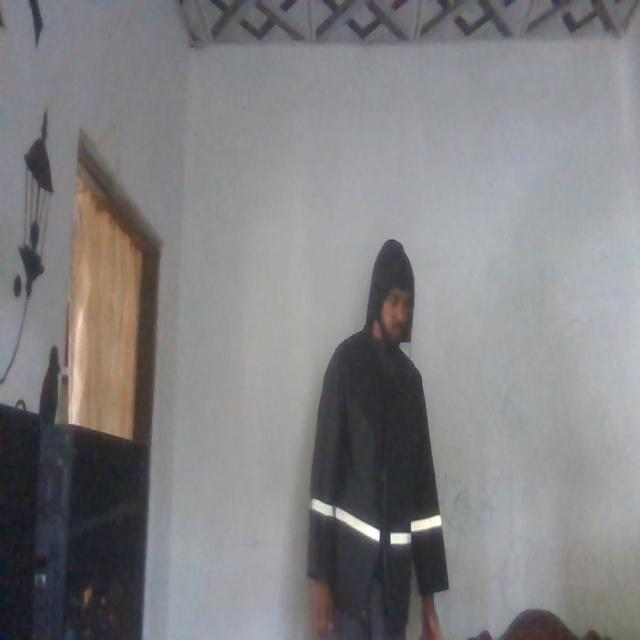Jacket_Wearer: (308, 329, 452, 630)
Person: (312, 242, 440, 640)
